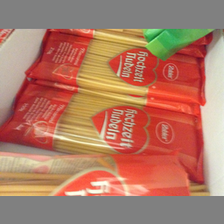pasta: (1, 76, 206, 175), (25, 31, 205, 101)
